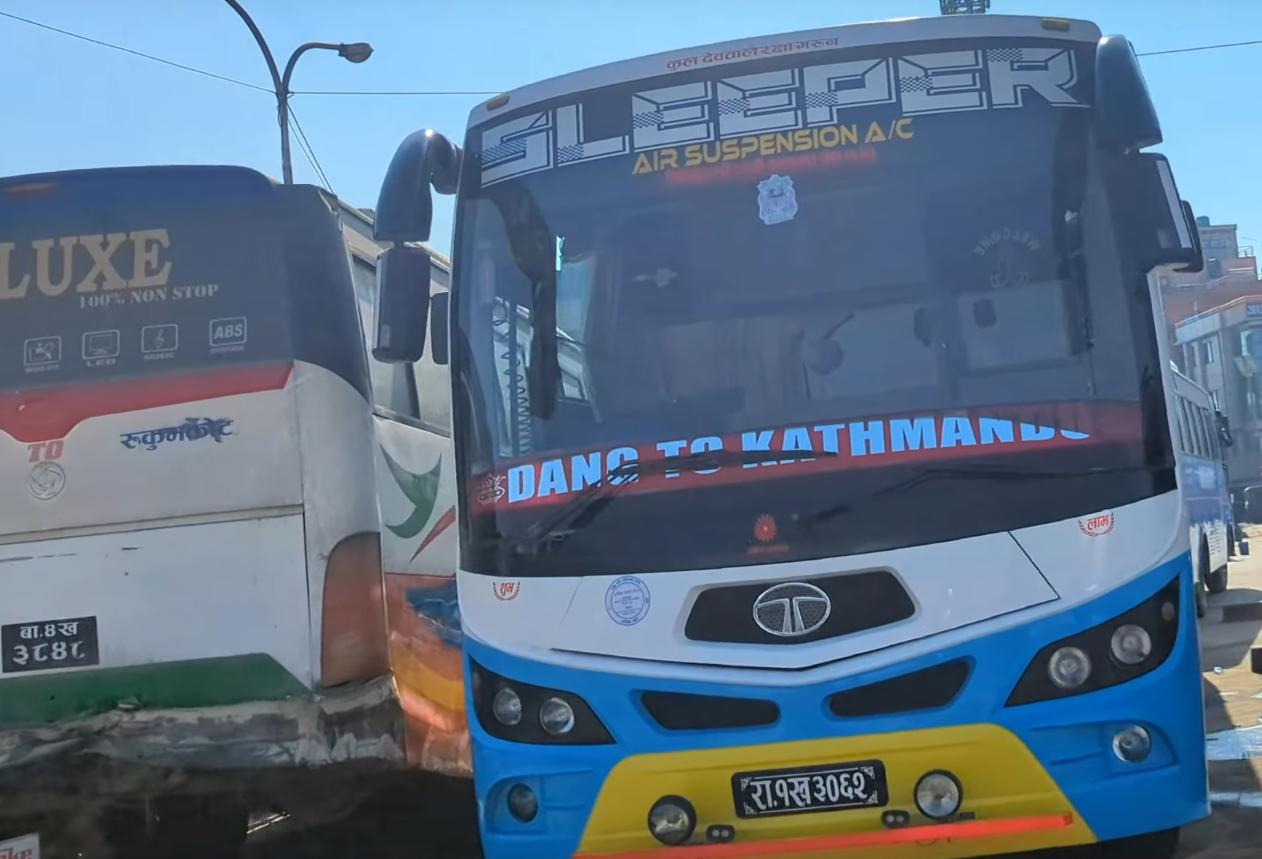bus: (378, 0, 1224, 859)
